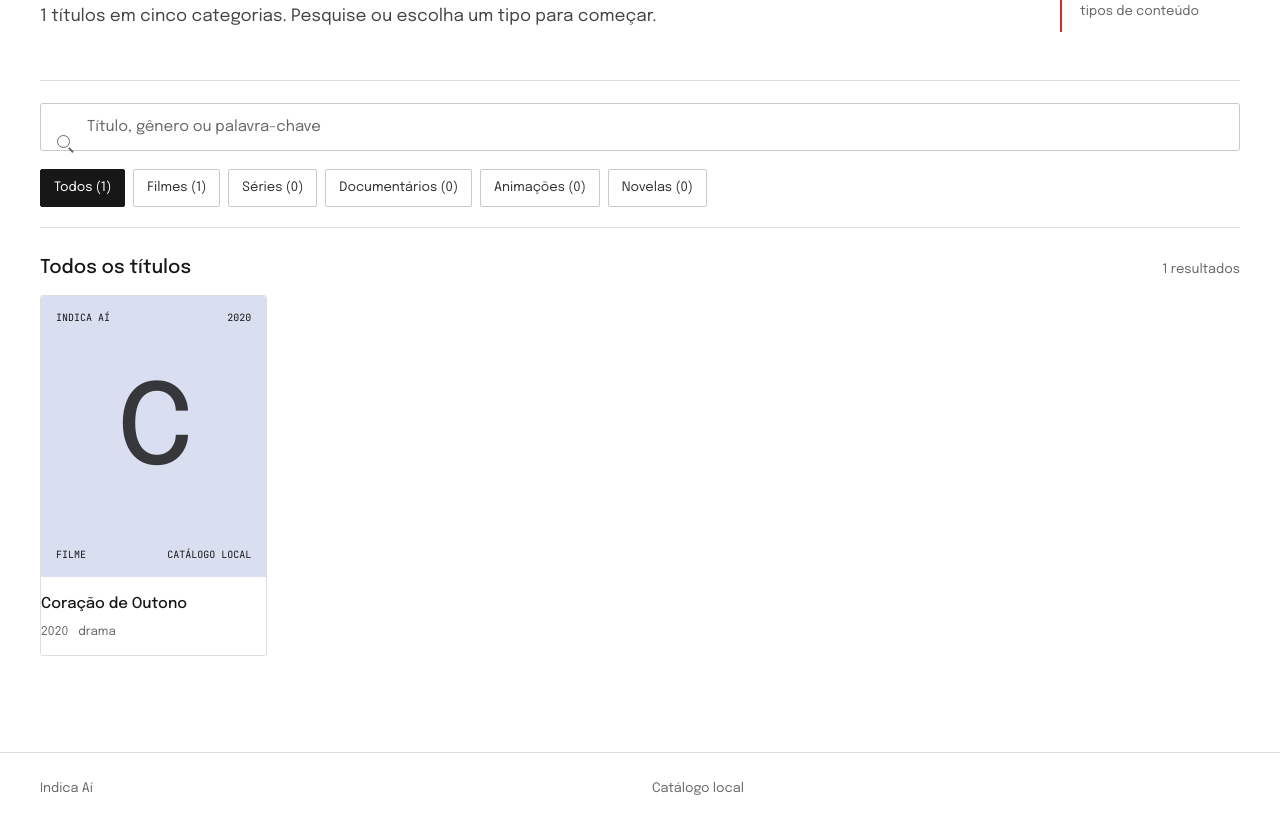
fluxo do catálogo › abre o título selecionado e carrega seus detalhes pela API
(page scrolled)
Click the button "Coração de Outono": (154, 475) [41,296,266,655]
(page scrolled)
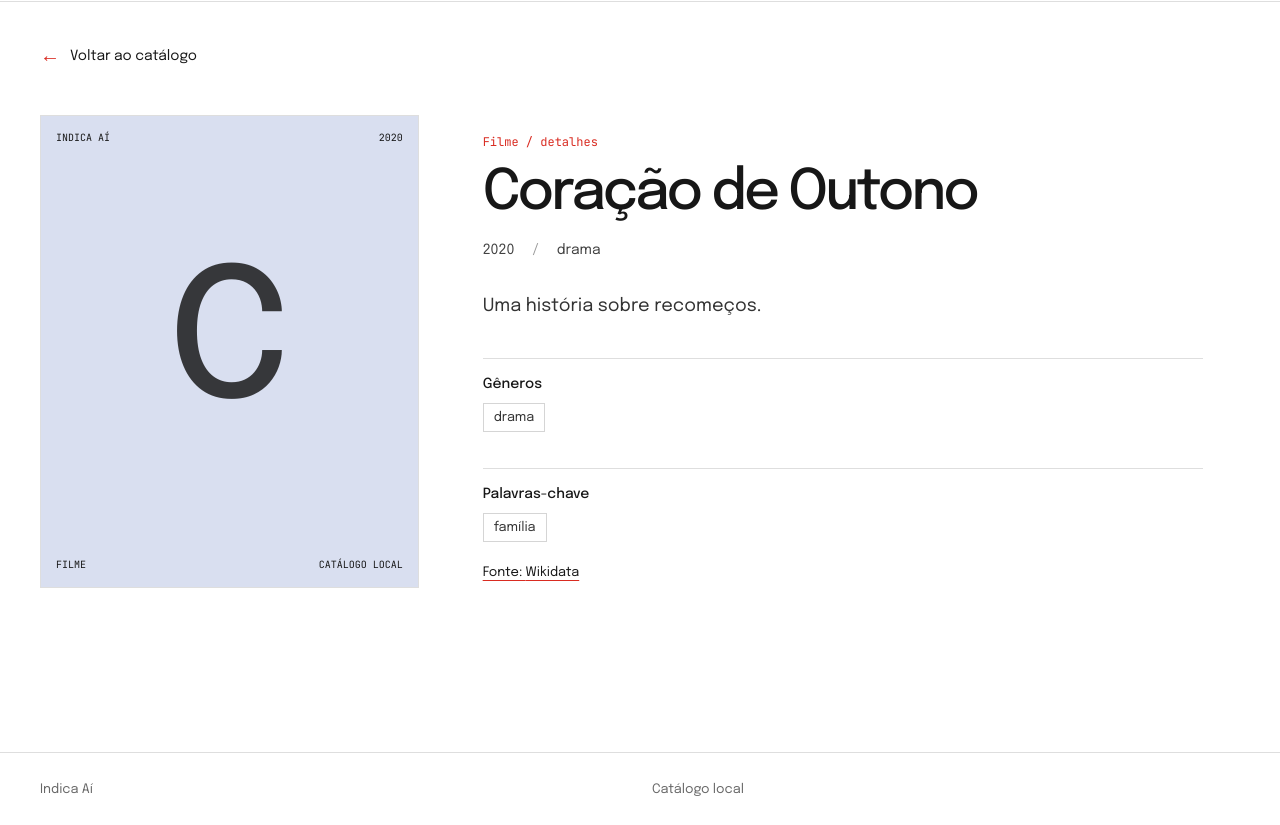
Expected: the heading "Coração de Outono" is shown, [483,165,977,222]
Expected: the text "Uma história sobre recomeços." is shown, [483,297,762,315]
